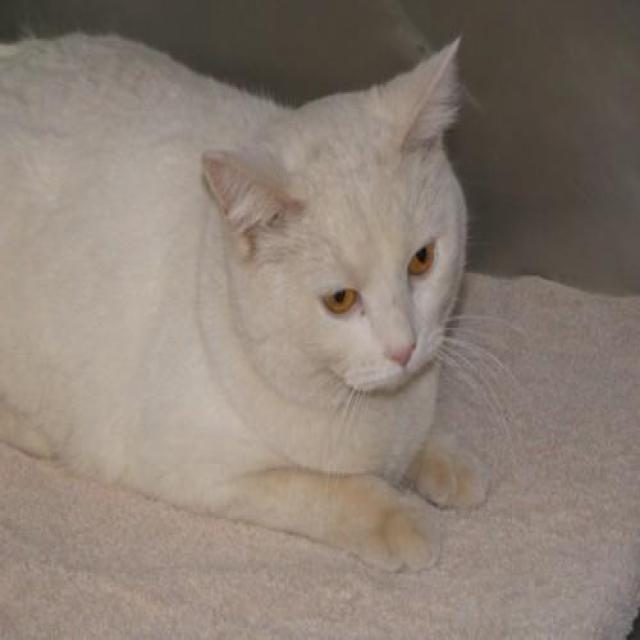Cats: (0, 26, 512, 574)
